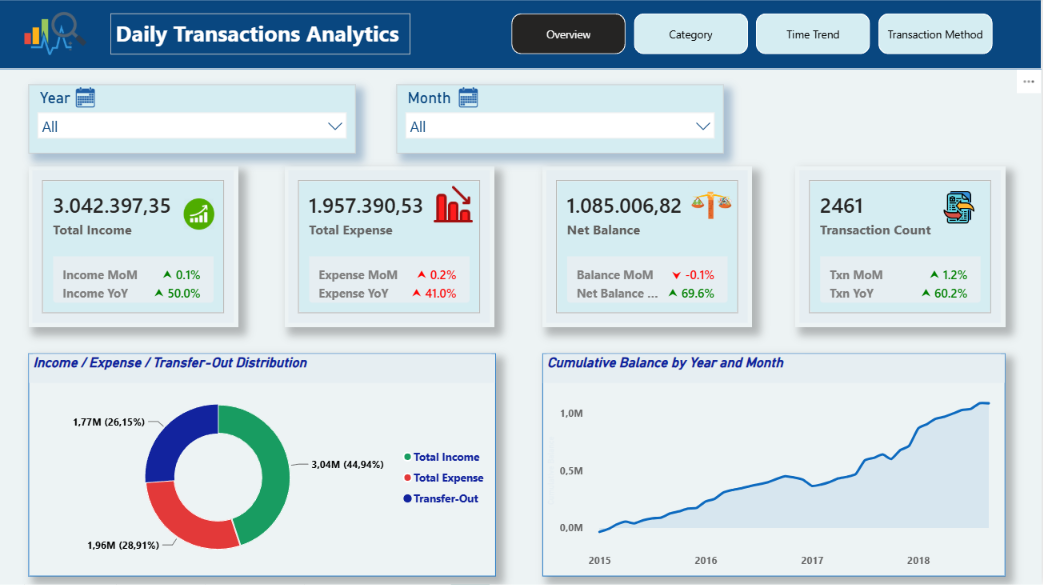

Layout of this report page (visuals, bound fields, positions):
{"tool":"powerbi","page":{"name":"Overview","canvas":[1280,720],"ordinal":0},"visuals":[{"type":"shape","box":[0,1.2,1280,85.8],"z":0},{"type":"textbox","box":[137.4,18.4,368.1,50.3],"z":1000},{"type":"image","box":[13.5,4.9,112.9,76.1],"z":2000},{"type":"pageNavigator","box":[629.5,18.4,590.2,50.3],"z":3000},{"type":"slicer","fields":{"Values":["Calendar.Date.Variation.Date Hierarchy.Year"]},"box":[36.8,105.5,401.5,84.7],"z":4000},{"type":"slicer","fields":{"Values":["Calendar.Date.Variation.Date Hierarchy.Month"]},"box":[488.3,105.5,401.5,84.7],"z":5000},{"type":"cardVisual","fields":{"Data":["_Measures.Total Income"]},"box":[36.8,206.1,257.7,197.5],"z":6000},{"type":"cardVisual","fields":{"Data":["_Measures.Total Expense"]},"box":[350.9,206.1,257.7,197.5],"z":7000},{"type":"cardVisual","fields":{"Data":["_Measures.Net Balance"]},"box":[667.5,206.1,257.7,197.5],"z":8000},{"type":"cardVisual","fields":{"Data":["_Measures.Transaction Count"]},"box":[977.9,206.1,257.7,197.5],"z":9000},{"type":"image","box":[223.3,245.4,45.4,38],"z":10000},{"type":"image","box":[532.5,227,51.5,51.5],"z":11000},{"type":"image","box":[846.6,223.3,55.2,55.2],"z":12000},{"type":"image","box":[1157.1,234.4,42.9,44.2],"z":13000},{"type":"donutChart","title":"Income / Expense / Transfer-Out Distribution","fields":{"Y":["_Measures.Total Income","_Measures.Total Expense","_Measures.Transfer-Out"]},"box":[36.2,435,573.8,273.8],"z":14000},{"type":"lineChart","fields":{"Y":["_Measures.Cumulative Balance"],"Category":["Calendar.Date.Variation.Date Hierarchy.Year","Calendar.Date.Variation.Date Hierarchy.Month"]},"box":[667.5,435.6,568.1,273.6],"z":15000},{"type":"image","box":[88.3,95.7,38,52.8],"z":16000},{"type":"image","box":[558.3,95.7,38,52.8],"z":17000}]}

Visuals, with their boxes in screenshot pixels (x1, y1, x2, y2), scaled from the page's 1280x720 canvas onto the 1043x585 screenshot:
shape: [0, 1, 1042, 71]
textbox: [112, 15, 412, 56]
image: [11, 4, 103, 66]
pageNavigator: [513, 15, 994, 56]
slicer - Calendar.Date.Variation.Date Hierarchy.Year: [30, 86, 357, 155]
slicer - Calendar.Date.Variation.Date Hierarchy.Month: [398, 86, 725, 155]
cardVisual - _Measures.Total Income: [30, 167, 240, 328]
cardVisual - _Measures.Total Expense: [286, 167, 496, 328]
cardVisual - _Measures.Net Balance: [544, 167, 754, 328]
cardVisual - _Measures.Transaction Count: [797, 167, 1007, 328]
image: [182, 199, 219, 230]
image: [434, 184, 476, 226]
image: [690, 181, 735, 226]
image: [943, 190, 978, 226]
"Income / Expense / Transfer-Out Distribution" donutChart: [29, 353, 497, 576]
lineChart - _Measures.Cumulative Balance x Calendar.Date.Variation.Date Hierarchy.Year: [544, 354, 1007, 576]
image: [72, 78, 103, 121]
image: [455, 78, 486, 121]
